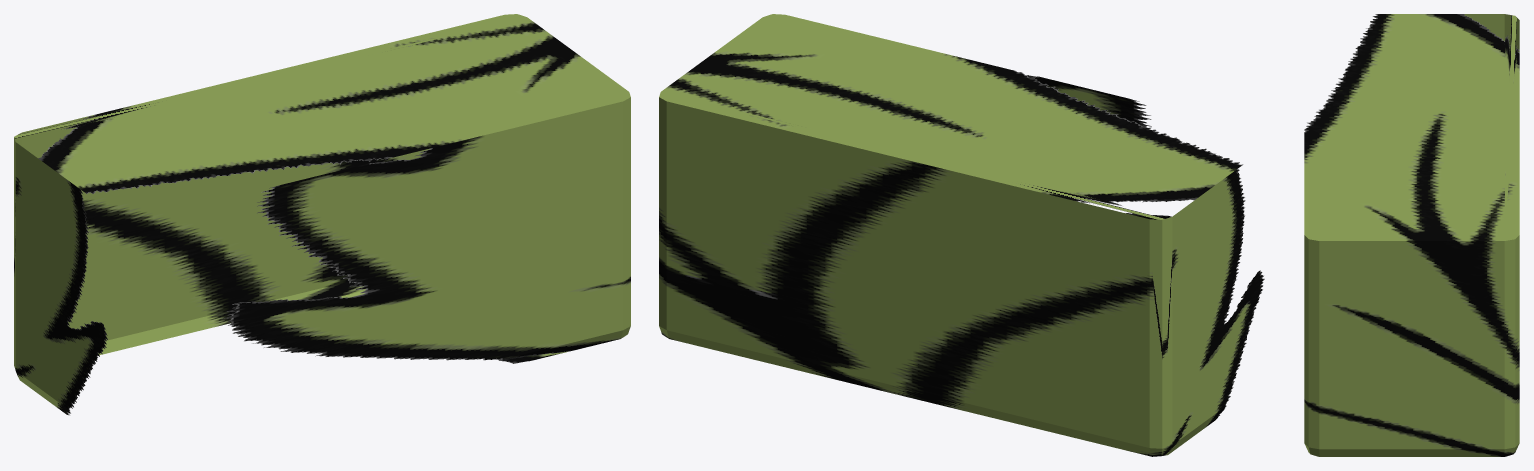
File: Bush_Platform.fbx
The picture shows the model from 3 angles, left to right: view 1: azimuth 30°, elevation 25°; view 2: azimuth 150°, elevation 25°; view 3: azimuth 270°, elevation 25°; orthographic projection. The views are drawn at different scales.
Parts seen in each view (by area): view 1: Square_Bush.001; view 2: Square_Bush.001; view 3: Square_Bush.001.
Boxes of the visible parts, bbox=[...] form: Square_Bush.001: bbox=[14, 14, 630, 415]; Square_Bush.001: bbox=[659, 14, 1264, 456]; Square_Bush.001: bbox=[1304, 14, 1519, 456].
Size of the model in its own units: 8890 by 4048 by 3566.
Materials: 1 (1 with a texture image).
